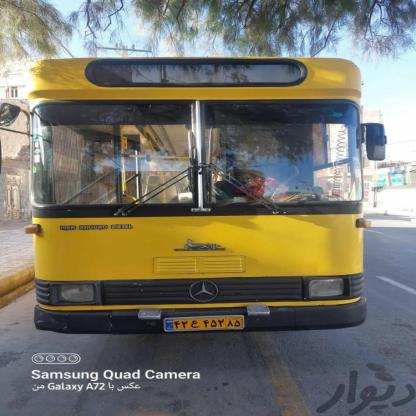Bus: (0, 46, 401, 344)
